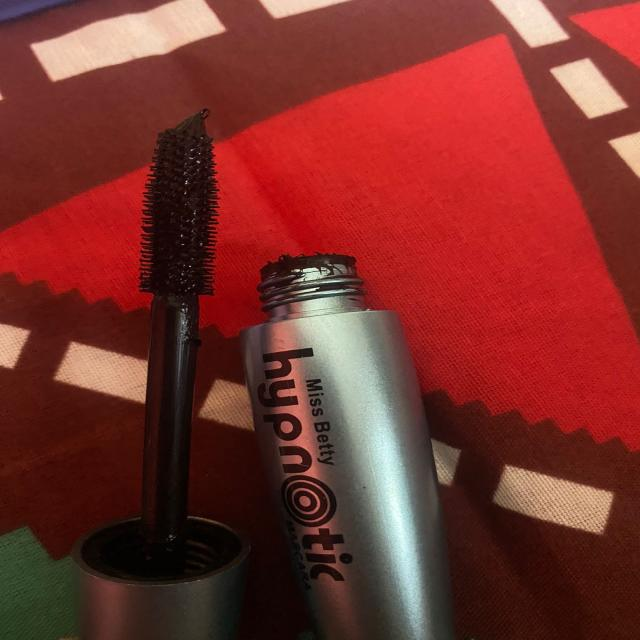mascara: (52, 98, 254, 640)
